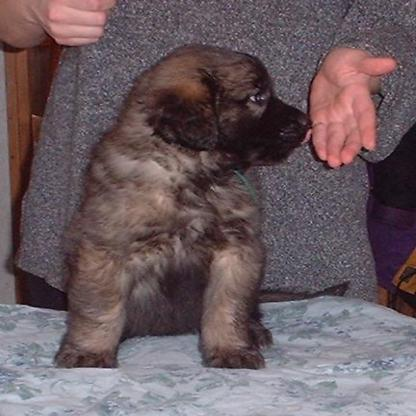Leonberg: (51, 39, 351, 369)
